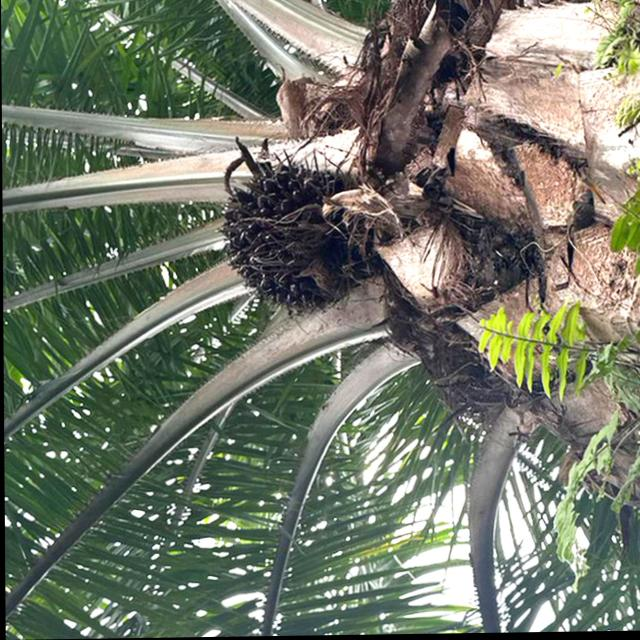almost: (215, 162, 360, 322)
